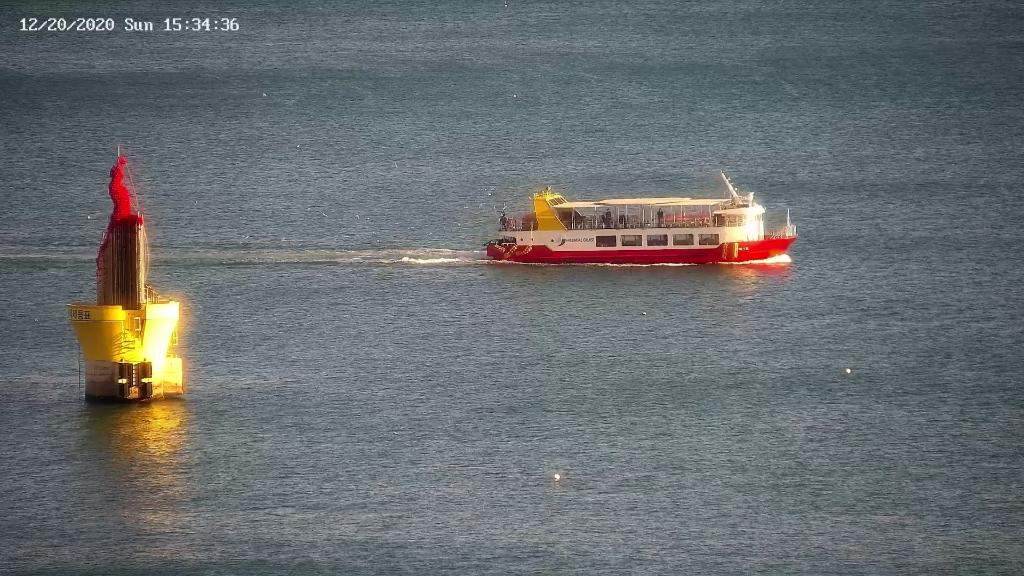PassengerShip: (470, 173, 810, 269)
